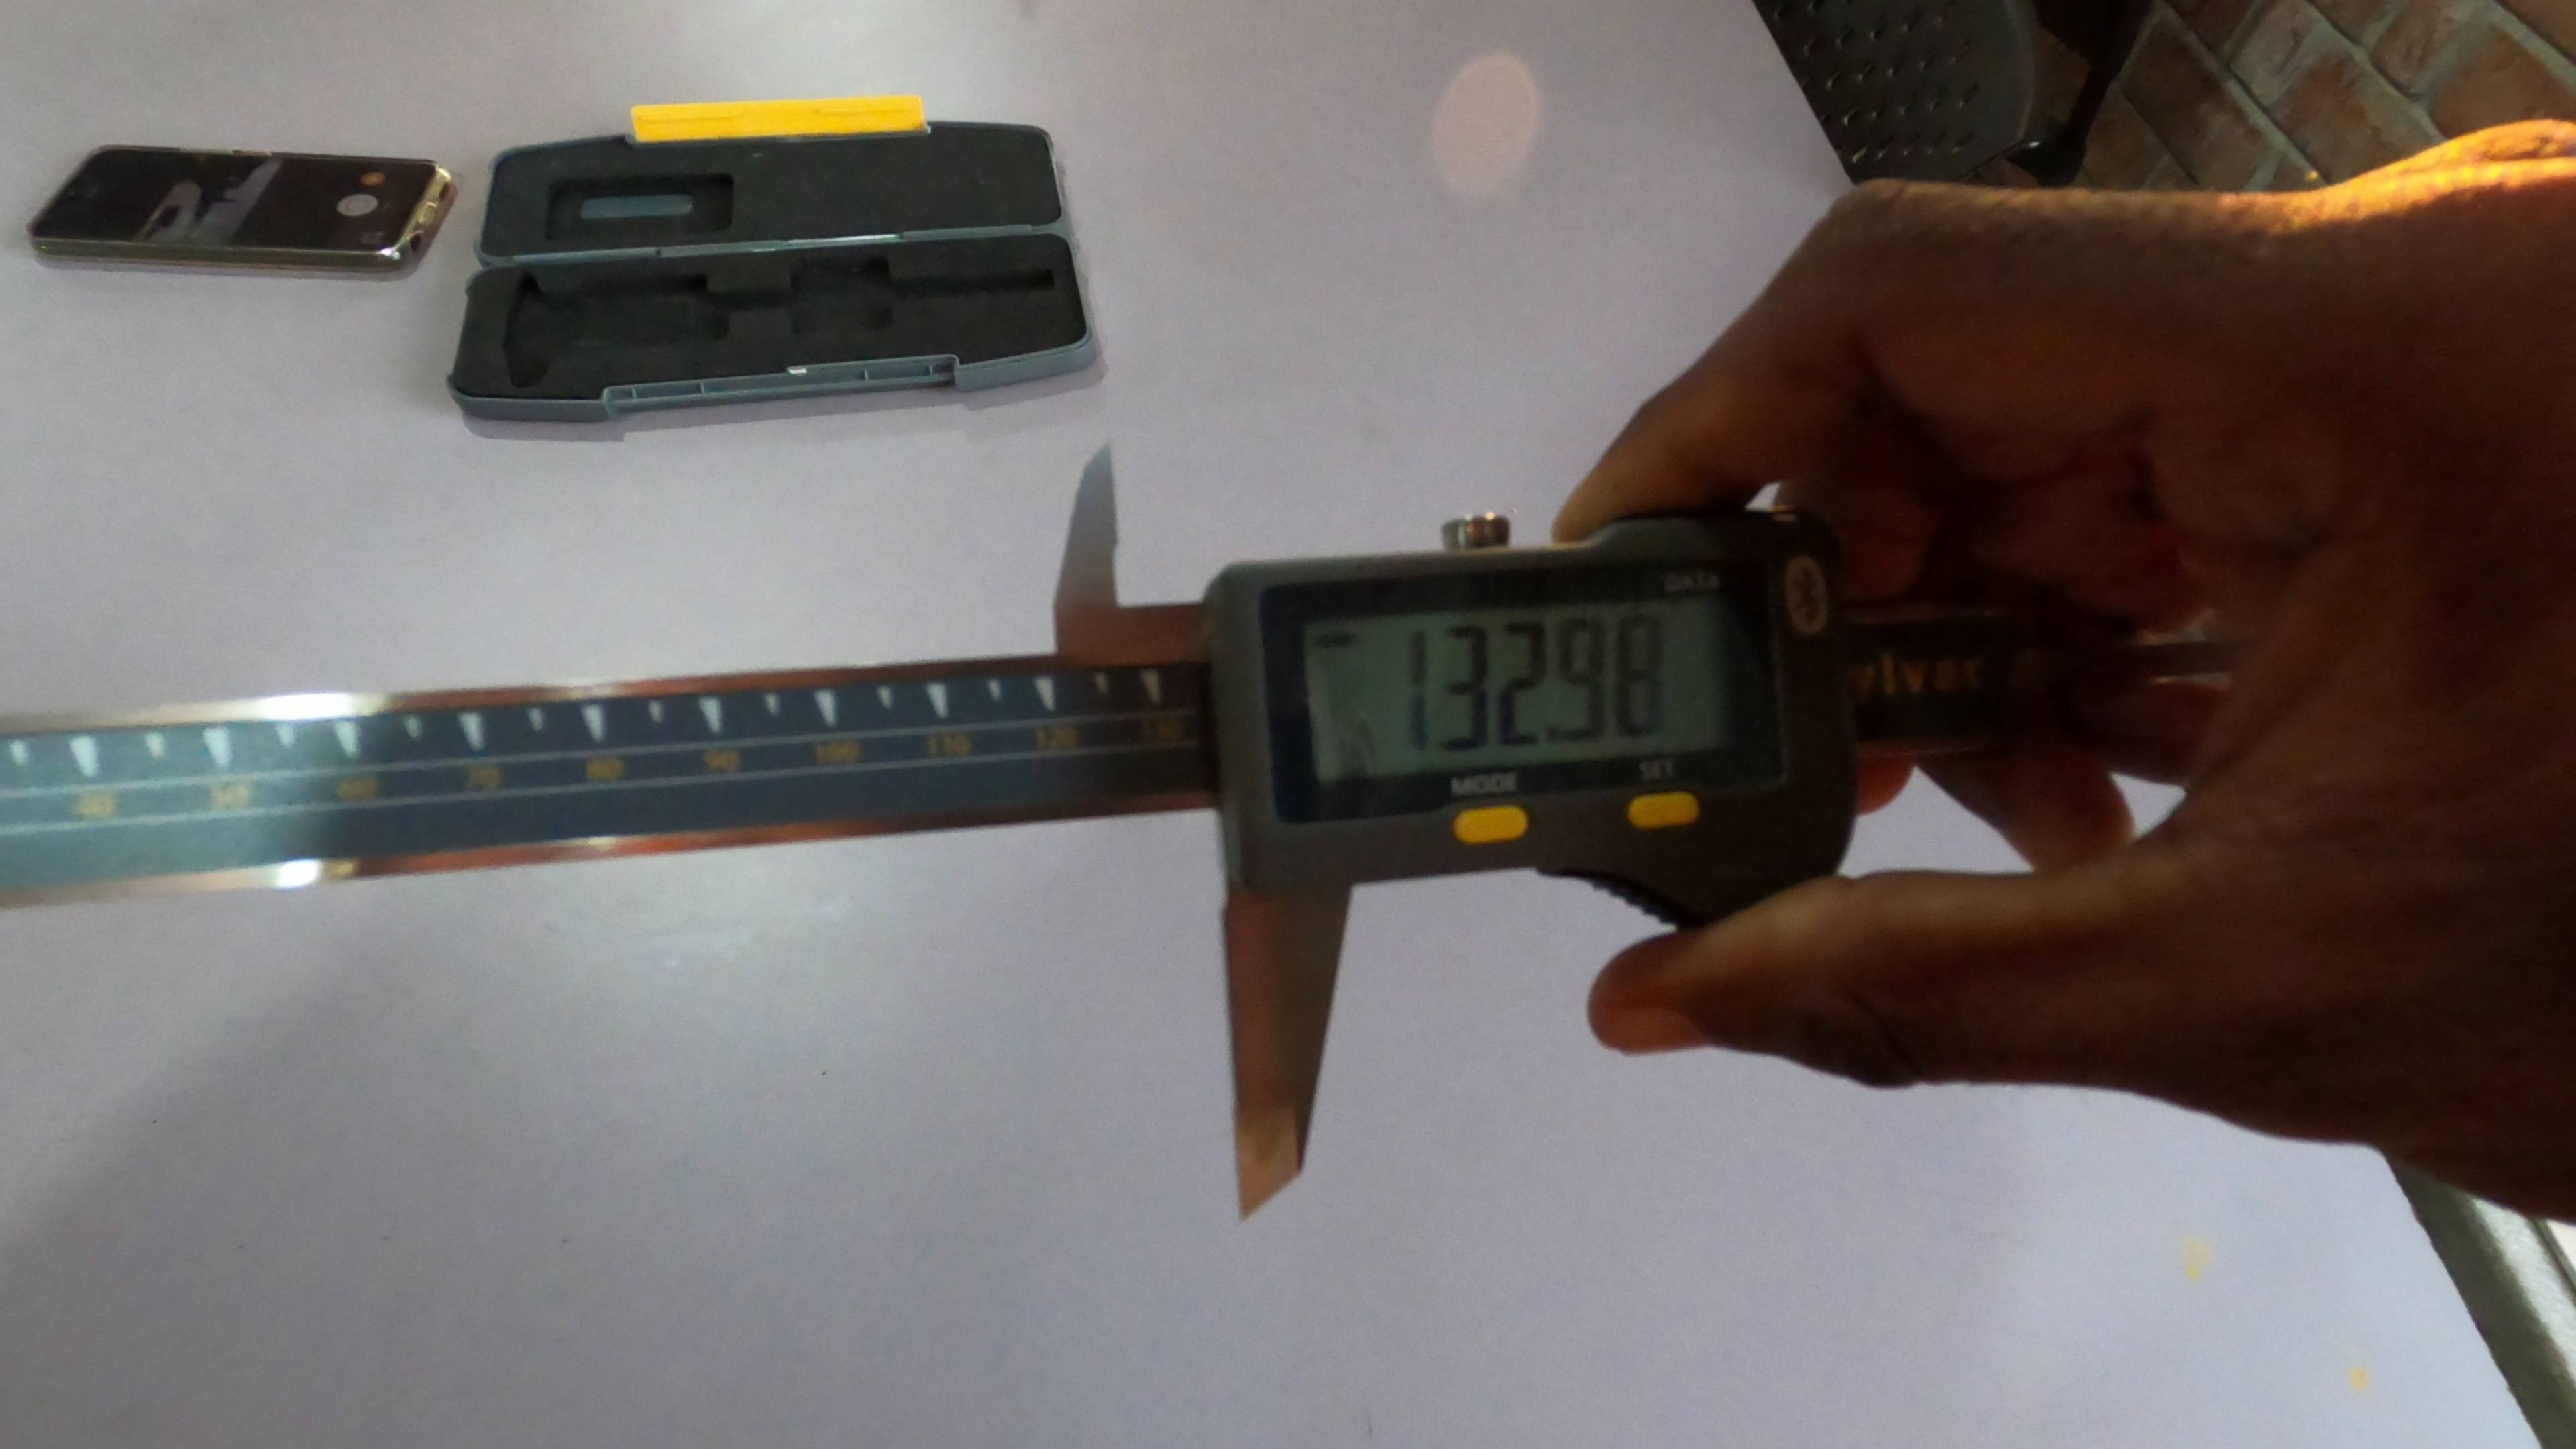vernier_caliper: (19, 423, 1859, 1228)
